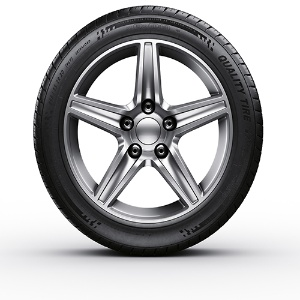tire: (34, 5, 265, 255)
